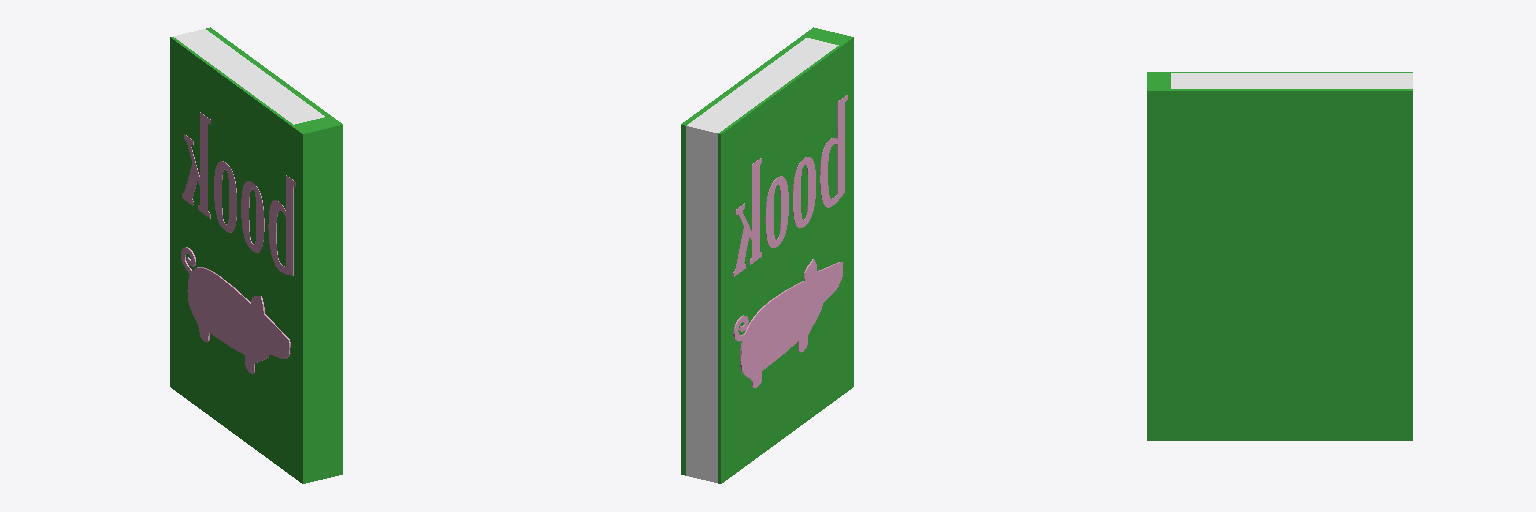
File: book.obj
The picture shows the model from 3 angles: view 1: azimuth 30°, elevation 25°; view 2: azimuth 150°, elevation 25°; view 3: azimuth 270°, elevation 25°; orthographic projection.
Visible parts, largest first — view 1: tinker; view 2: tinker; view 3: tinker.
Part boxes in pixels (bbox=[...]): tinker: bbox=[170, 27, 342, 483]; tinker: bbox=[681, 27, 853, 483]; tinker: bbox=[1147, 72, 1412, 440].
Size of the model in its own units: 2 by 16 by 11.